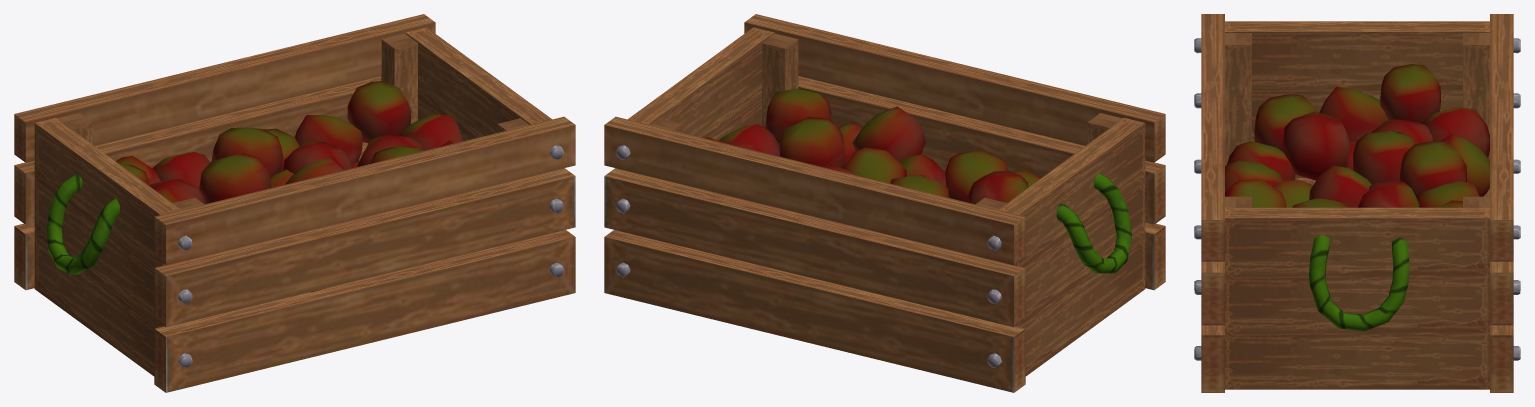
The model's file is FarmCrate_Apple.glb.
3 renders of one model, left to right at view 1: azimuth 30°, elevation 25°; view 2: azimuth 150°, elevation 25°; view 3: azimuth 270°, elevation 25°, orthographic. The views are drawn at different scales.
Parts seen in each view (by area): view 1: FarmCrate_Apple; view 2: FarmCrate_Apple; view 3: FarmCrate_Apple.
Boxes of the visible parts, x1,y1,x2,y2 form: FarmCrate_Apple: (14,14,575,392); FarmCrate_Apple: (604,14,1165,392); FarmCrate_Apple: (1194,14,1520,392).
Size of the model in its own units: 0.7138 by 0.2438 by 0.4142.
3 materials, 3 textured.
